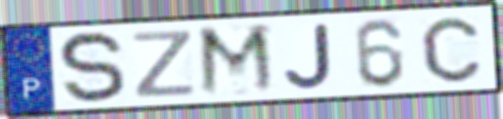6: (353, 15, 407, 91)
C: (418, 15, 484, 85)
J: (281, 21, 336, 92)
M: (194, 21, 280, 99)
S: (56, 28, 129, 107)
Z: (130, 27, 198, 100)
